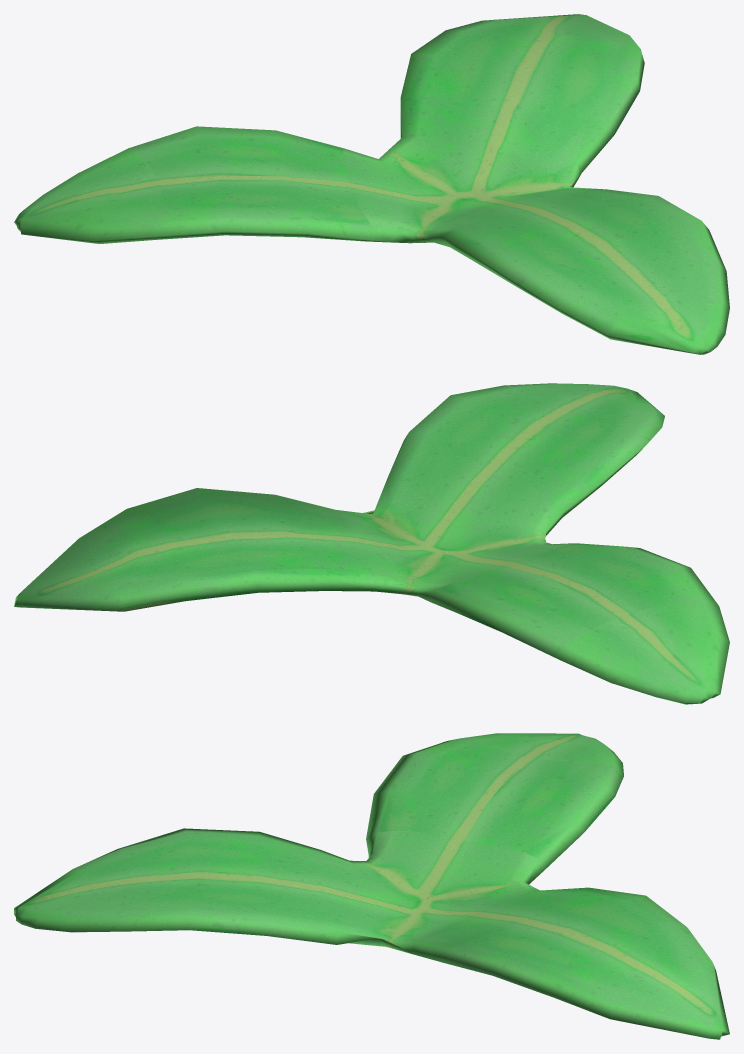
The model's file is planta1.fbx.
3 views of the same model, one above another, from view 1: azimuth 30°, elevation 25°; view 2: azimuth 150°, elevation 25°; view 3: azimuth 270°, elevation 25° (orthographic). The views are drawn at different scales.
Visible parts, largest first — view 1: Group1670; view 2: Group1670; view 3: Group1670.
Part boxes in pixels (left/top/right/bottom): Group1670: left=14, top=14, right=729, bottom=354; Group1670: left=14, top=383, right=729, bottom=704; Group1670: left=14, top=733, right=729, bottom=1039.
Bounding box in the file's own units: 68.76 × 5.75 × 69.79.
